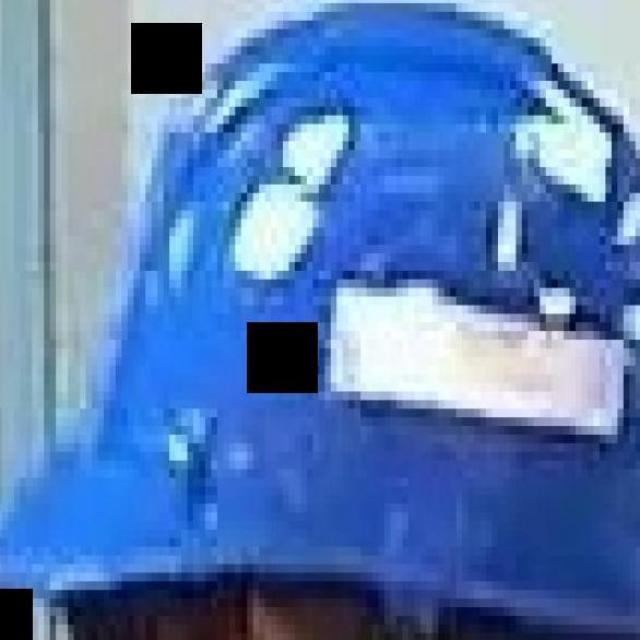blue helmet: (5, 10, 639, 625)
